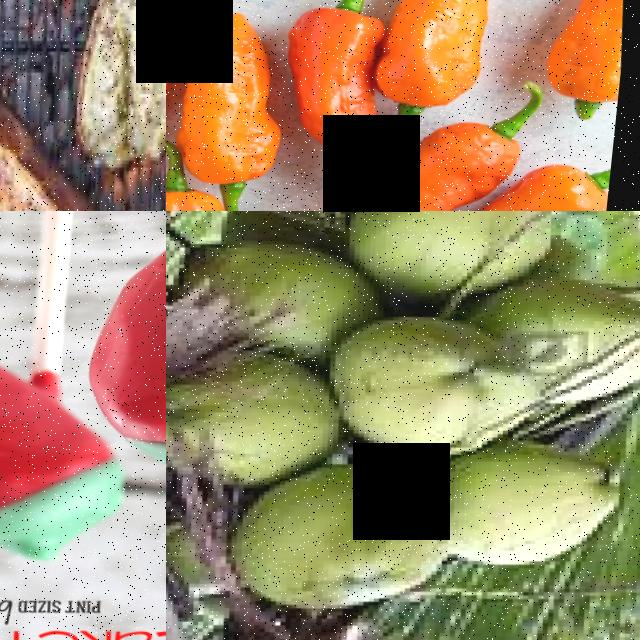chilli: (167, 0, 306, 194), (277, 0, 402, 177), (375, 0, 514, 110), (166, 0, 198, 147)
coconut: (220, 445, 472, 622), (331, 302, 550, 460), (166, 336, 351, 499), (444, 430, 640, 572), (341, 211, 573, 300)
crab: (0, 136, 166, 211)
